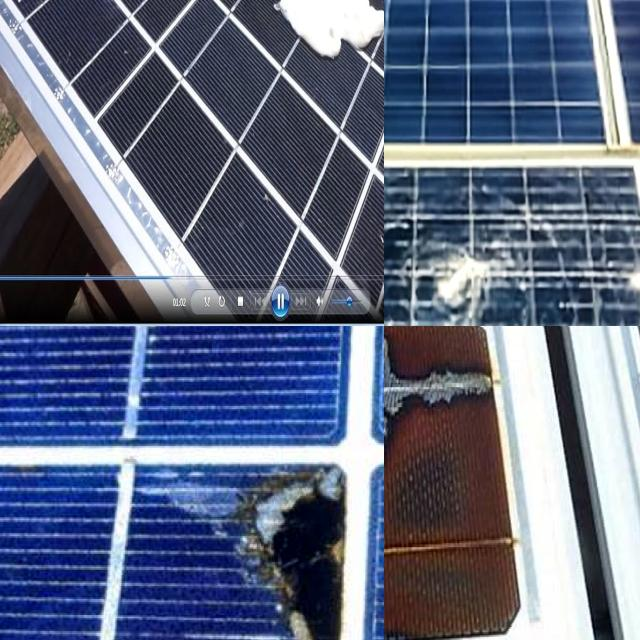bird: (268, 0, 384, 83)
hotspot: (409, 218, 548, 326), (611, 245, 640, 326)
shadow: (384, 326, 524, 640), (193, 455, 359, 640)
